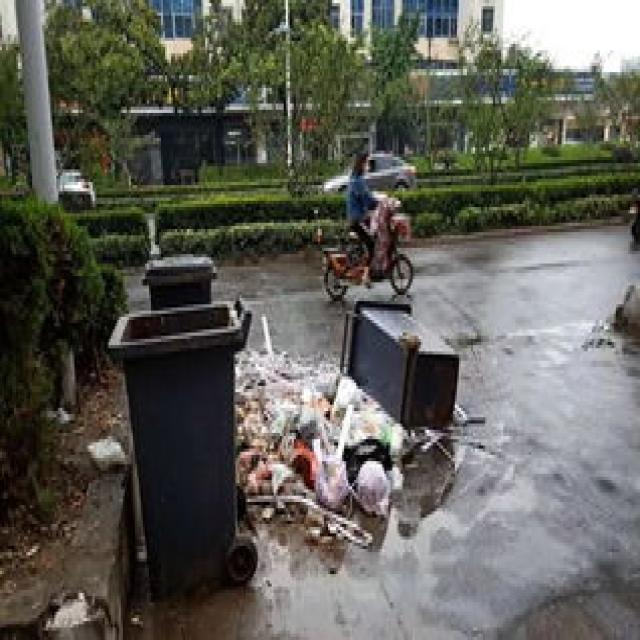garbage: (233, 345, 414, 540)
garbage_bin: (105, 295, 252, 571)
